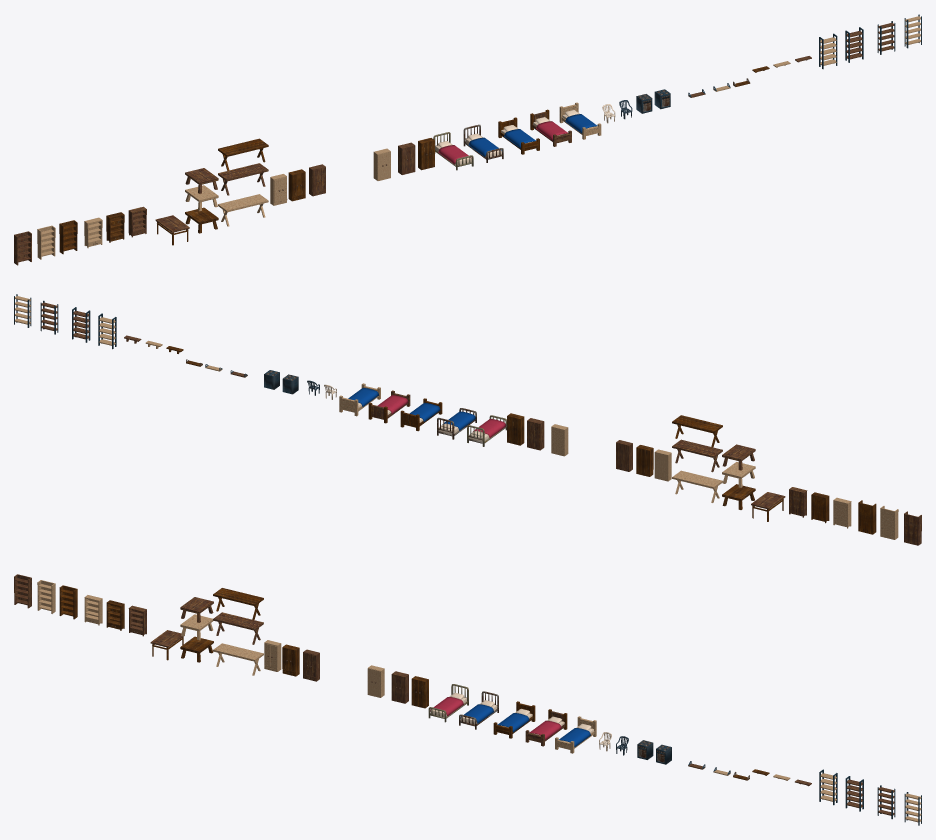
File: furniture.fbx
3 views of the same model, one above another, from view 1: azimuth 30°, elevation 25°; view 2: azimuth 150°, elevation 25°; view 3: azimuth 330°, elevation 25° (orthographic).
Parts seen in each view (by area): view 1: Cube.176, Cube.130, Cube.175, Cube.183, Cube.135, F_Screws.006, F_Screws.008, F_Countertop.012, Cube.145, Cube.144, Cube.185, Cube.136 (+2 smaller); view 2: Cube.175, Cube.130, Cube.176, Cube.135, Cube.183, F_Countertop.012, F_Screws.006, F_Screws.008, Cube.145, Cube.144, Cube.136, Cube.102 (+5 smaller); view 3: Cube.175, Cube.130, Cube.176, Cube.135, Cube.183, F_Countertop.012, F_Screws.008, F_Screws.006, Cube.144, Cube.145, Cube.185, Cube.136 (+5 smaller).
Boxes of the visible parts, x1=… form: Cube.176: x1=559, y1=102, x2=601, y2=139; Cube.130: x1=498, y1=117, x2=539, y2=154; Cube.175: x1=530, y1=109, x2=571, y2=146; Cube.183: x1=463, y1=124, x2=503, y2=162; Cube.135: x1=433, y1=132, x2=473, y2=170; F_Screws.006: x1=218, y1=138, x2=268, y2=170; F_Screws.008: x1=218, y1=163, x2=268, y2=195; F_Countertop.012: x1=218, y1=194, x2=268, y2=226; Cube.145: x1=59, y1=220, x2=77, y2=254; Cube.144: x1=37, y1=225, x2=55, y2=259; Cube.185: x1=373, y1=148, x2=390, y2=180; Cube.136: x1=398, y1=142, x2=415, y2=174; Cube.175: x1=368, y1=390, x2=410, y2=423; Cube.130: x1=400, y1=398, x2=442, y2=431; Cube.176: x1=339, y1=383, x2=380, y2=416; Cube.135: x1=467, y1=415, x2=506, y2=446; Cube.183: x1=437, y1=408, x2=476, y2=439; F_Countertop.012: x1=672, y1=470, x2=722, y2=502; F_Screws.006: x1=672, y1=415, x2=722, y2=447; F_Screws.008: x1=672, y1=439, x2=722, y2=472; Cube.145: x1=858, y1=500, x2=876, y2=534; Cube.144: x1=880, y1=506, x2=898, y2=539; Cube.136: x1=527, y1=418, x2=544, y2=450; Cube.102: x1=904, y1=511, x2=921, y2=545; Cube.175: x1=525, y1=709, x2=567, y2=746; Cube.130: x1=493, y1=701, x2=535, y2=738; Cube.176: x1=555, y1=716, x2=596, y2=753; Cube.135: x1=428, y1=684, x2=468, y2=722; Cube.183: x1=459, y1=691, x2=498, y2=729; F_Countertop.012: x1=213, y1=643, x2=263, y2=675; F_Screws.008: x1=213, y1=612, x2=263, y2=644; F_Screws.006: x1=213, y1=588, x2=263, y2=620; Cube.144: x1=37, y1=580, x2=55, y2=613; Cube.145: x1=59, y1=585, x2=77, y2=619; Cube.185: x1=367, y1=665, x2=384, y2=697; Cube.136: x1=391, y1=671, x2=408, y2=703.
Bounding box in the file's own units: 4881 × 380 × 224.
